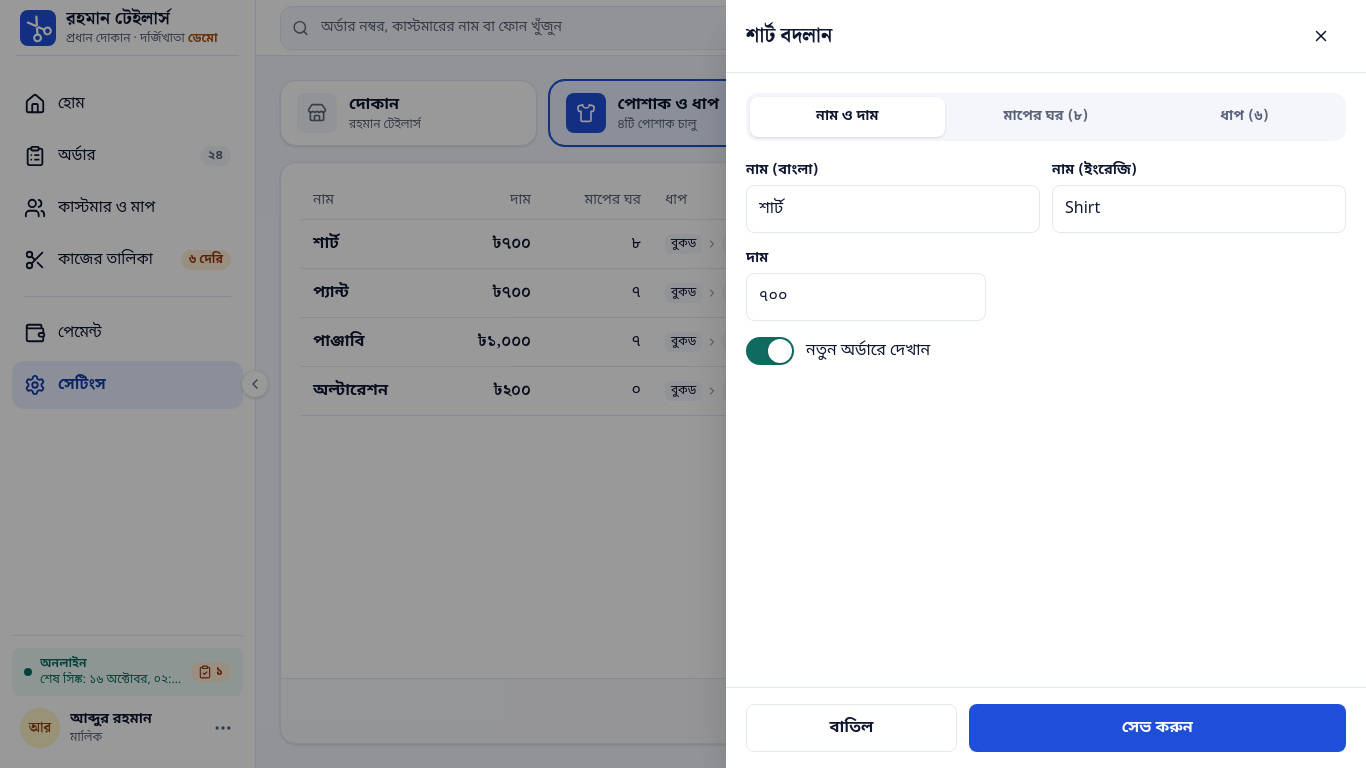
Test case: Desktop garment editor › keeps stages in their kind’s box and adds a stage to the box it is added from
Click the tab "ধাপ (৬)" at (1245, 117), box [1147, 97, 1342, 137]
(page scrolled)
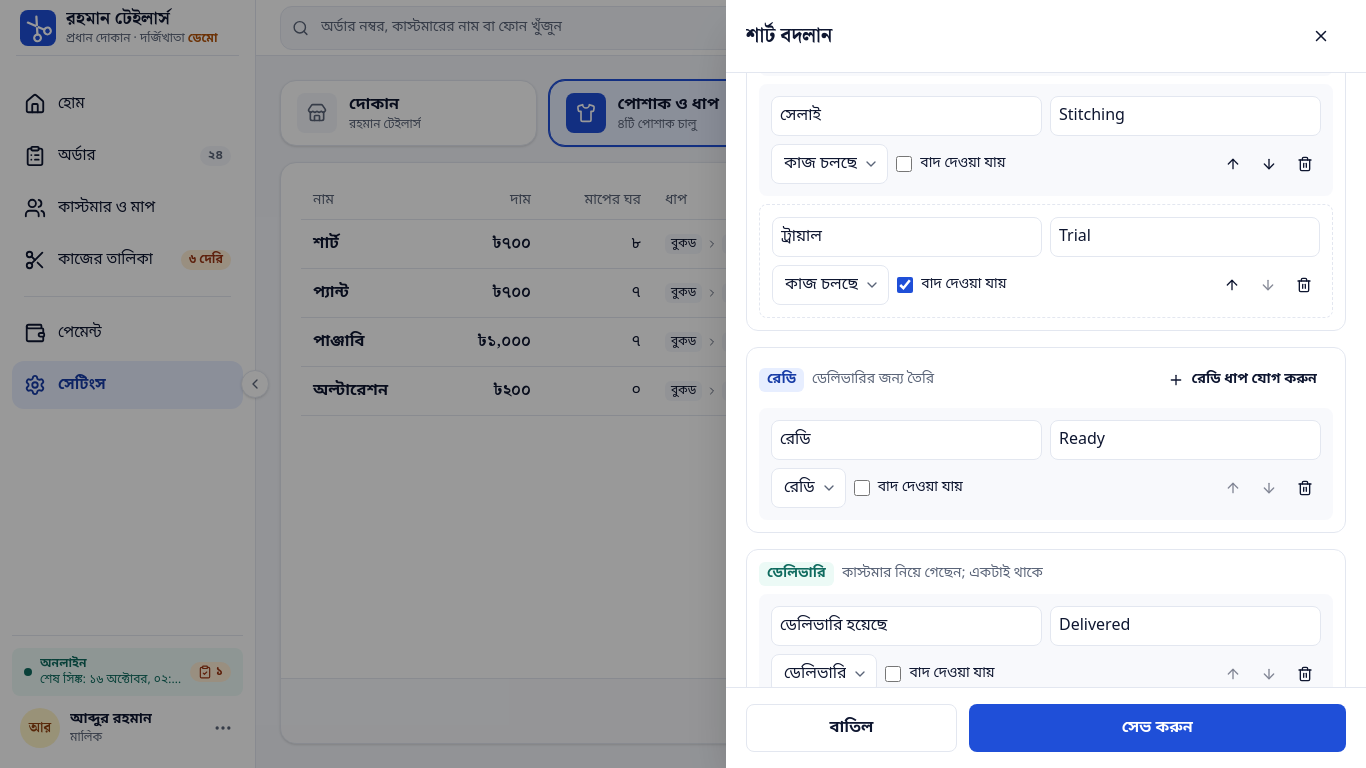
Check: the button "রেডি ধাপ যোগ করুন" is shown
Click the button "রেডি ধাপ যোগ করুন" at (1242, 380), box [1152, 360, 1333, 400]
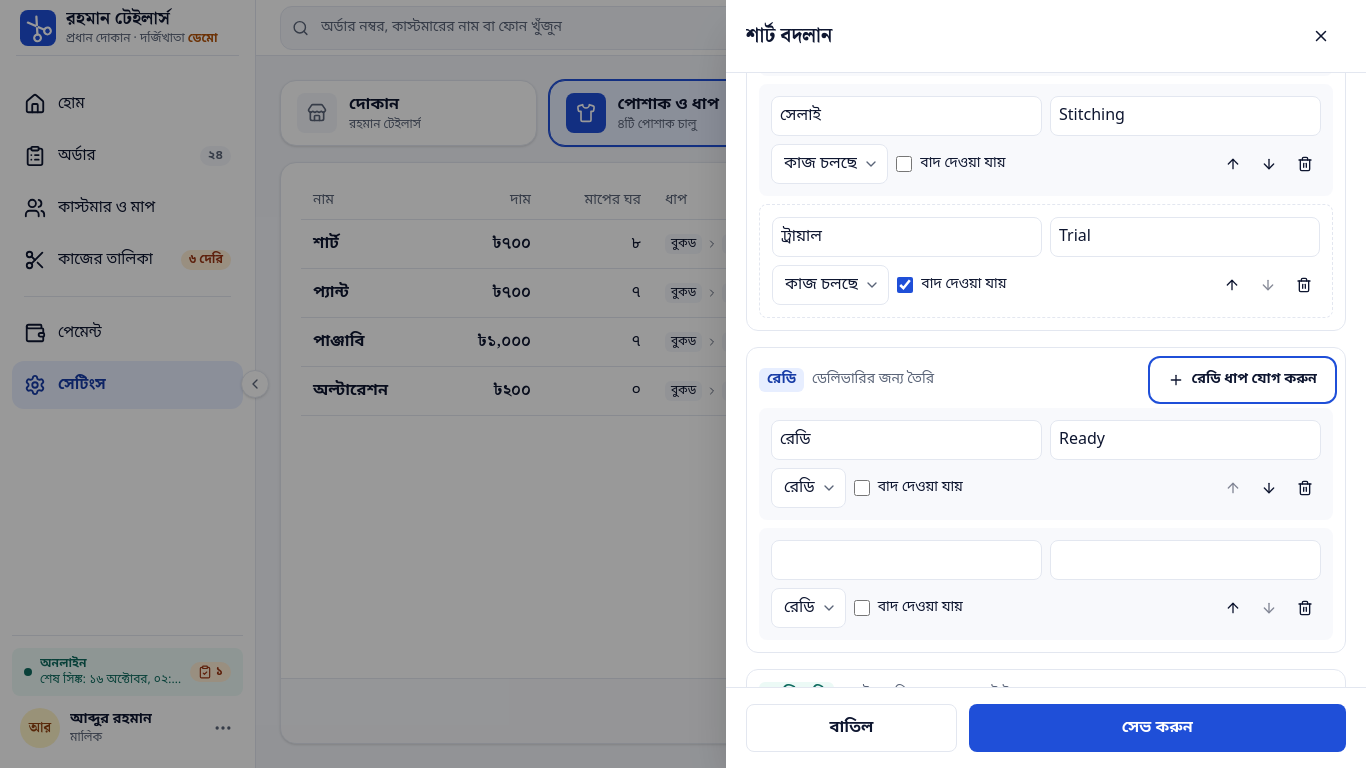
Type "প্যাকিং" into the field named "ধাপ ৬: বাংলা নাম" at (906, 560), box [771, 540, 1042, 580]
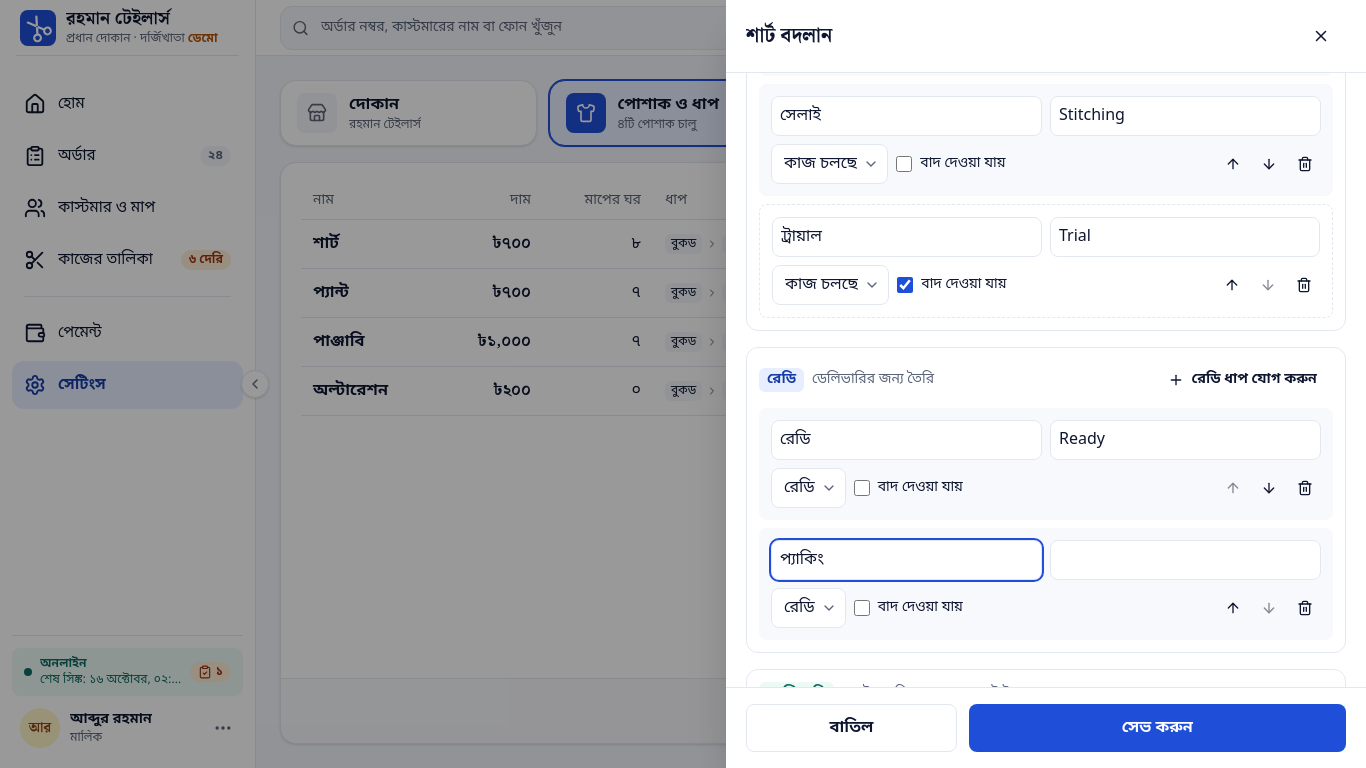
Type "Packing" into the field named "ধাপ ৬: ইংরেজি নাম" at (1186, 560), box [1050, 540, 1321, 580]
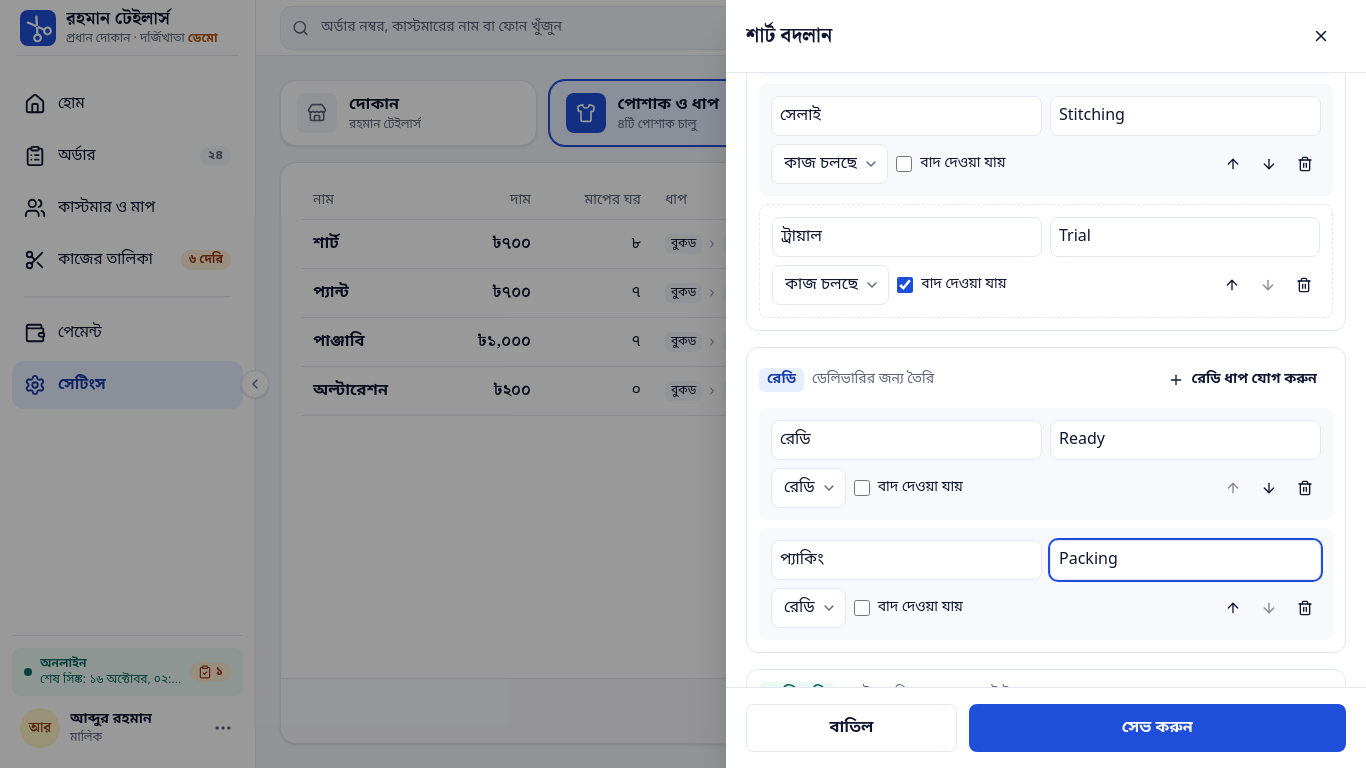
Click the button "সেভ করুন" at (1157, 728), box [969, 704, 1346, 752]
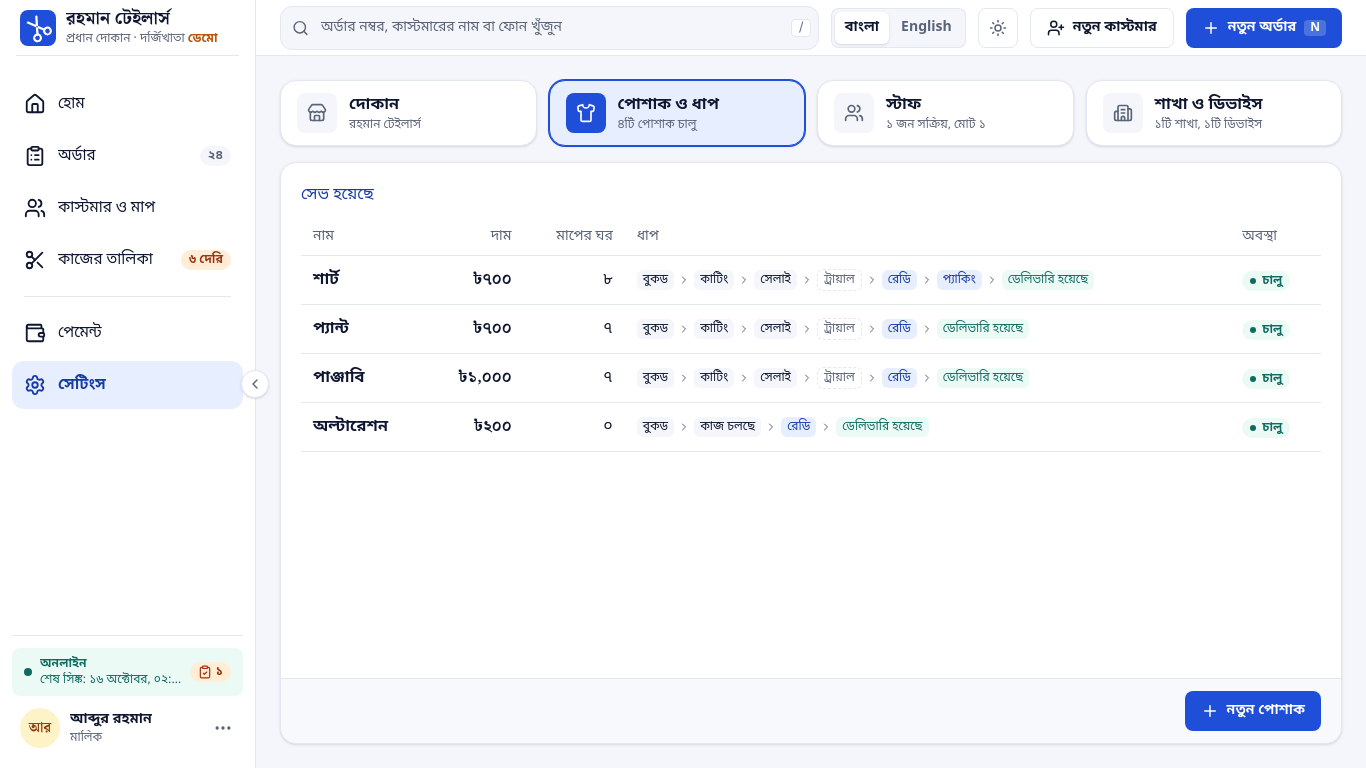
Check: the text "সেভ হয়েছে" is shown, box [301, 184, 374, 206]
